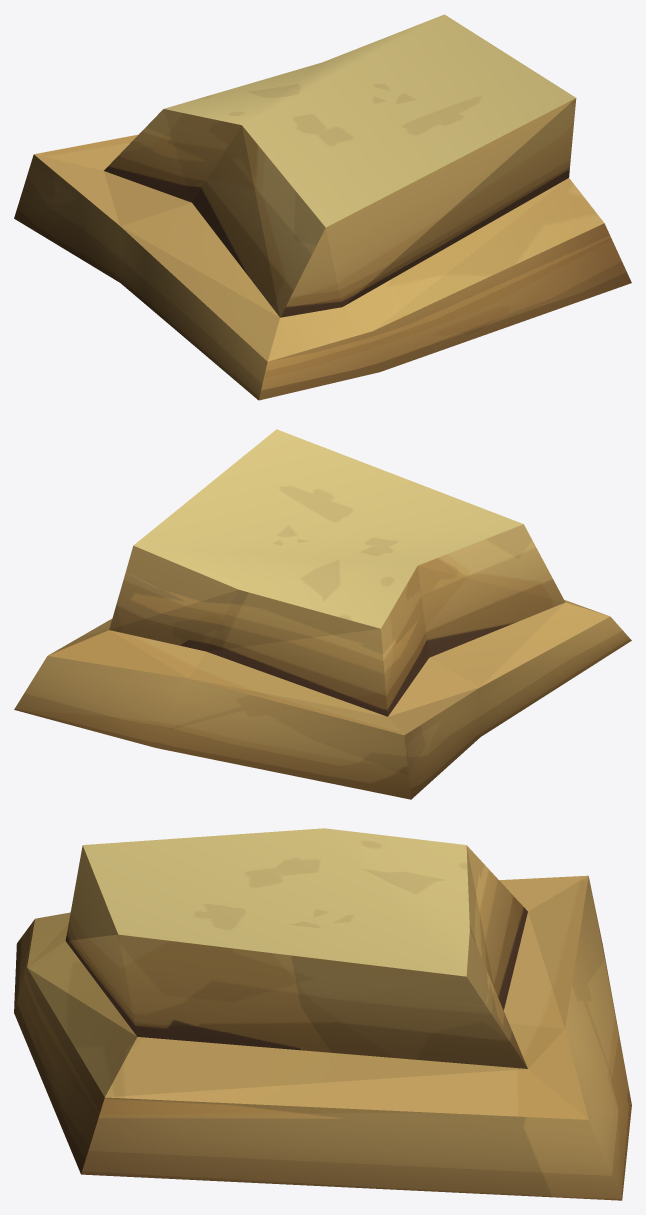
Rendered from F_W_O_rock_011.fbx.
The picture shows the model from 3 angles, top to bottom: view 1: azimuth 30°, elevation 25°; view 2: azimuth 150°, elevation 25°; view 3: azimuth 270°, elevation 25°; orthographic projection. The views are drawn at different scales.
Visible parts, largest first — view 1: F_W_O_rock_011; view 2: F_W_O_rock_011; view 3: F_W_O_rock_011.
Boxes of the visible parts, left/top/right/bottom form: F_W_O_rock_011: left=14, top=14, right=631, bottom=400; F_W_O_rock_011: left=14, top=429, right=631, bottom=799; F_W_O_rock_011: left=14, top=828, right=631, bottom=1200.
Size of the model in its own units: 4.46 by 1.75 by 4.53.
